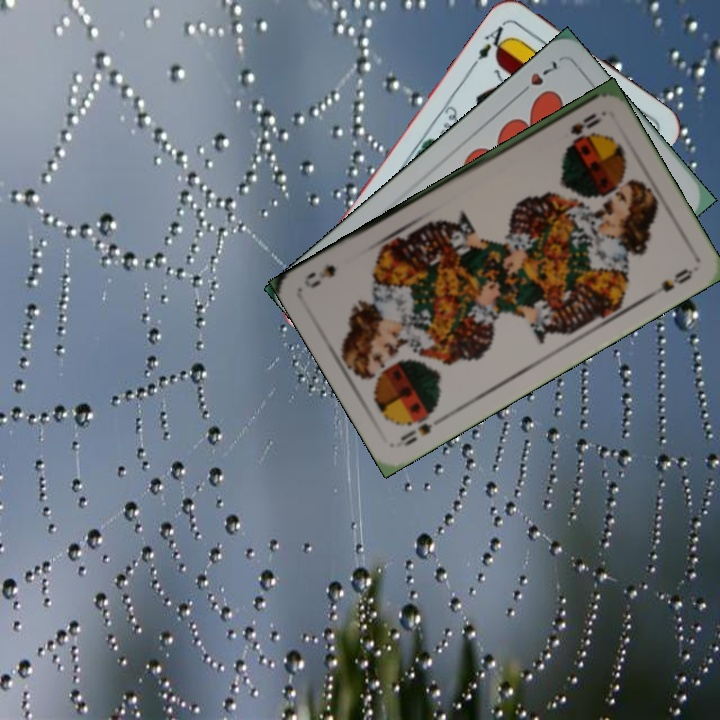EA: (469, 17, 512, 69)
H7: (513, 56, 562, 100)
SO: (396, 407, 439, 449), (566, 109, 604, 138)
